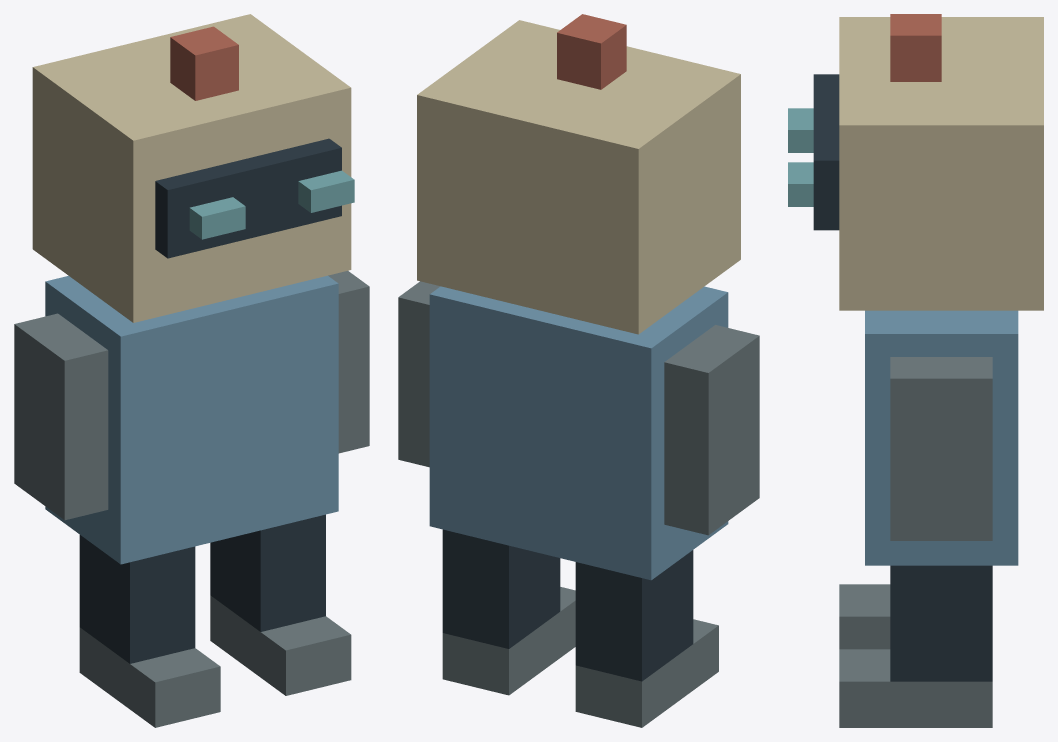
3 renders of one model, left to right at view 1: azimuth 30°, elevation 25°; view 2: azimuth 150°, elevation 25°; view 3: azimuth 270°, elevation 25°, orthographic.
Visible parts, largest first — view 1: Robot assistant; view 2: Robot assistant; view 3: Robot assistant.
Boxes of the visible parts, bbox=[...] form: Robot assistant: bbox=[14, 14, 369, 727]; Robot assistant: bbox=[398, 14, 759, 727]; Robot assistant: bbox=[788, 14, 1043, 727].
Bounding box in the file's own units: 1.12 × 2.24 × 0.8.
